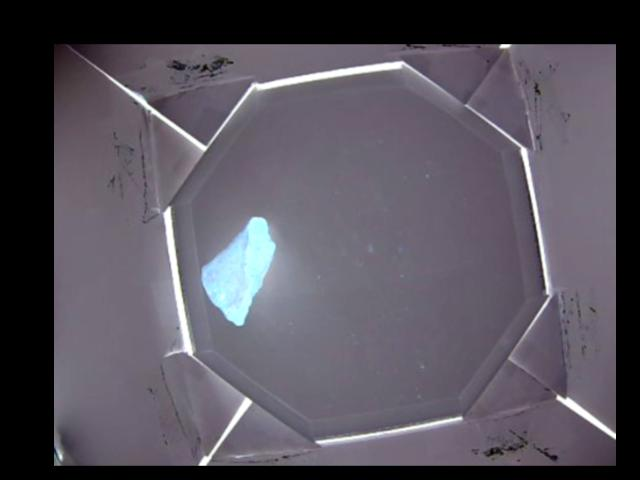Brisk: (201, 216, 275, 324)
